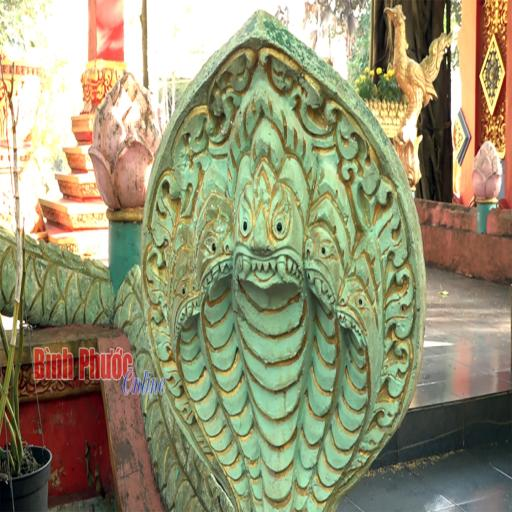ran: (123, 4, 431, 512)
